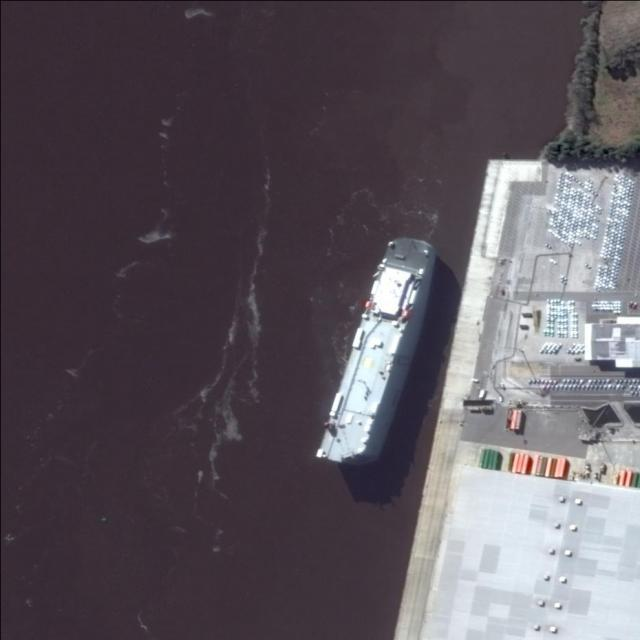RoRo: (306, 220, 446, 487)
